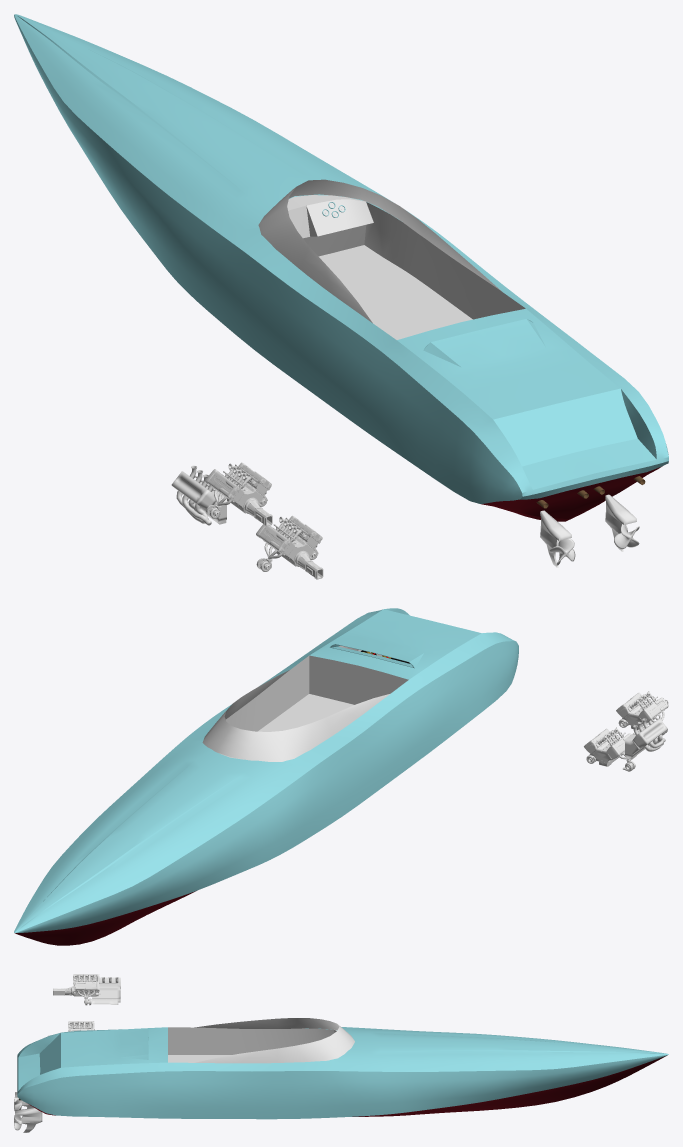
Rendered from bote.dae.
The picture shows the model from 3 angles, top to bottom: view 1: azimuth 30°, elevation 25°; view 2: azimuth 150°, elevation 25°; view 3: azimuth 270°, elevation 25°; orthographic projection. The views are drawn at different scales.
Parts seen in each view (by area): view 1: boteBody, windscreen, Engine2, Engine, NAengineBackup, PropMountL; view 2: boteBody, windscreen, Engine, Engine2, NAengineBackup; view 3: boteBody, windscreen, Engine2, NAengineBackup, PropMountR, Engine.
Part boxes in pixels (x1,y1,x2,y2): boteBody: [14, 14, 668, 521]; windscreen: [258, 179, 501, 323]; Engine2: [205, 462, 272, 526]; Engine: [256, 515, 323, 579]; NAengineBackup: [171, 465, 226, 525]; PropMountL: [540, 510, 571, 567]; boteBody: [14, 608, 518, 945]; windscreen: [202, 670, 390, 761]; Engine: [584, 727, 635, 771]; Engine2: [616, 691, 668, 735]; NAengineBackup: [625, 718, 667, 759]; boteBody: [17, 1027, 668, 1119]; windscreen: [194, 1018, 354, 1063]; Engine2: [53, 974, 100, 1005]; NAengineBackup: [92, 977, 120, 1004]; PropMountR: [15, 1107, 42, 1132]; Engine: [48, 1021, 94, 1036].
Size of the model in its own units: 5.28 by 12.52 by 2.05.
